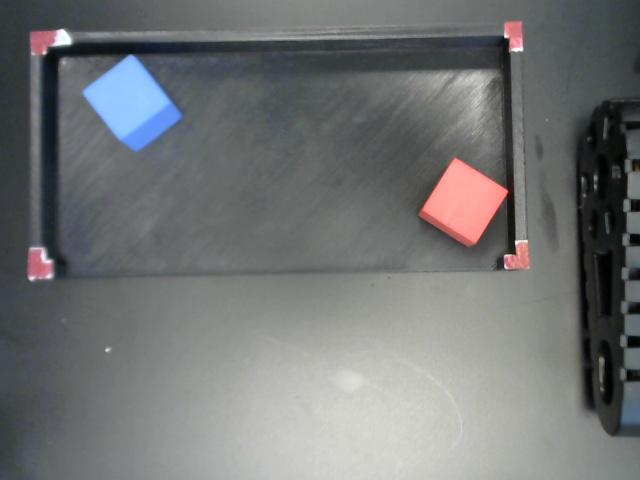cube: (84, 55, 180, 154), (418, 157, 507, 246)
